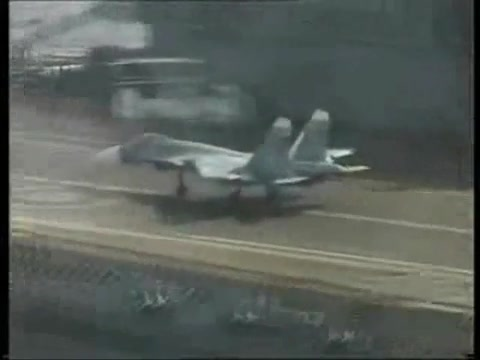aeroplane: (93, 109, 370, 215)
